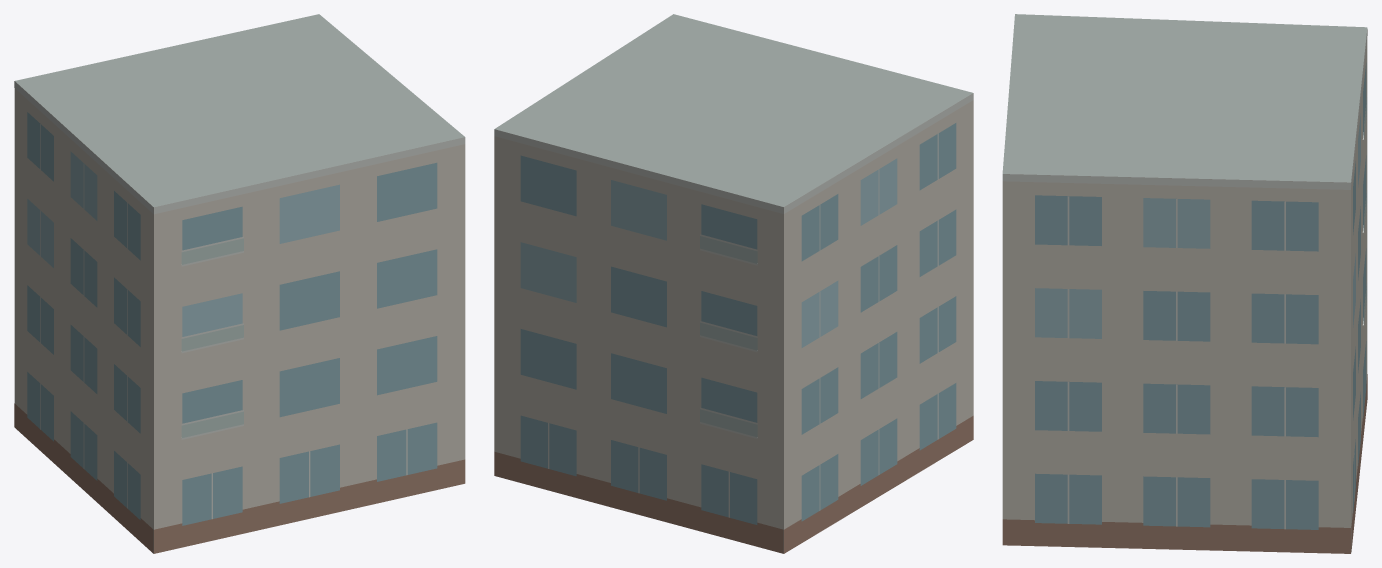
File: survey-upis-32485832.glb
The picture shows the model from 3 angles, left to right: view 1: azimuth 30°, elevation 25°; view 2: azimuth 150°, elevation 25°; view 3: azimuth 270°, elevation 25°; orthographic projection. The views are drawn at different scales.
Visible parts, largest first — view 1: survey-upis-32485832.tmp; view 2: survey-upis-32485832.tmp; view 3: survey-upis-32485832.tmp.
Boxes of the visible parts, x1,y1,x2,y2 form: survey-upis-32485832.tmp: [14, 14, 465, 553]; survey-upis-32485832.tmp: [494, 14, 973, 553]; survey-upis-32485832.tmp: [1002, 14, 1367, 553].
Bounding box in the file's own units: 11.84 × 12.15 × 10.83.
